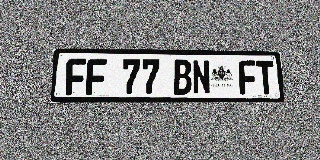7: (121, 59, 141, 95), (141, 59, 160, 95)
B: (173, 60, 192, 95)
F: (65, 58, 86, 95), (86, 59, 106, 95), (238, 60, 257, 94)
N: (192, 60, 211, 95)
T: (256, 60, 275, 94)
